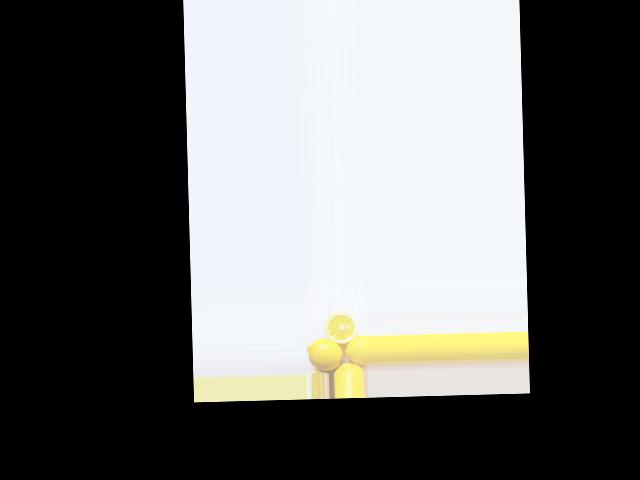lemon: (344, 335, 368, 363)
